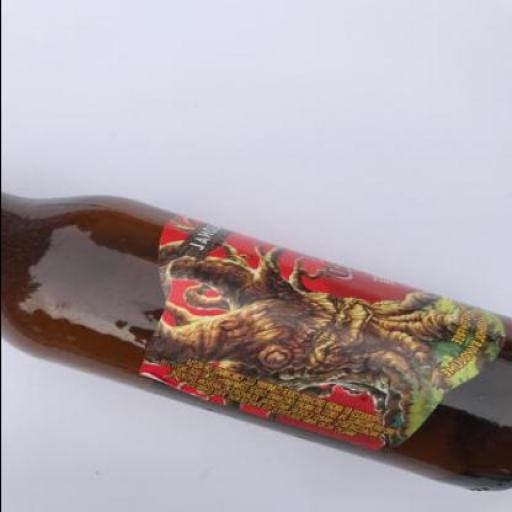glass: (1, 189, 511, 490)
